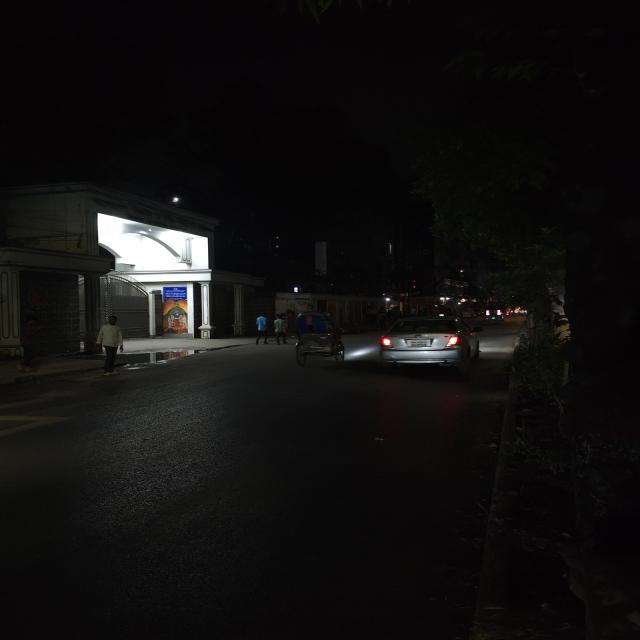car: (371, 315, 487, 375)
pedestrian: (93, 313, 128, 378), (252, 312, 271, 346), (272, 316, 288, 346)
rickshaw: (290, 310, 350, 366)
